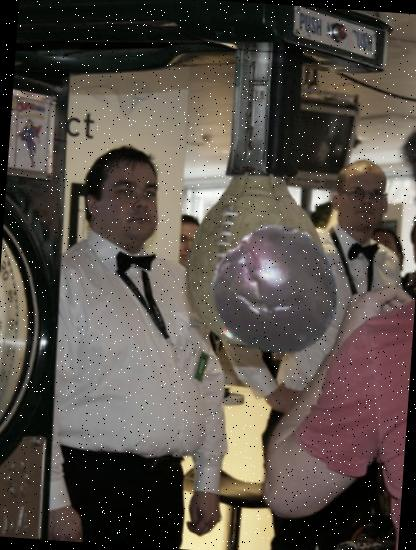Passion: (206, 222, 348, 362)
